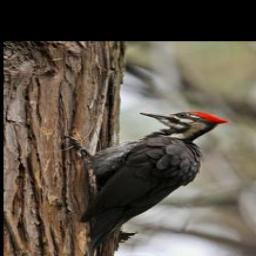Woodpecker: (61, 110, 230, 256)
